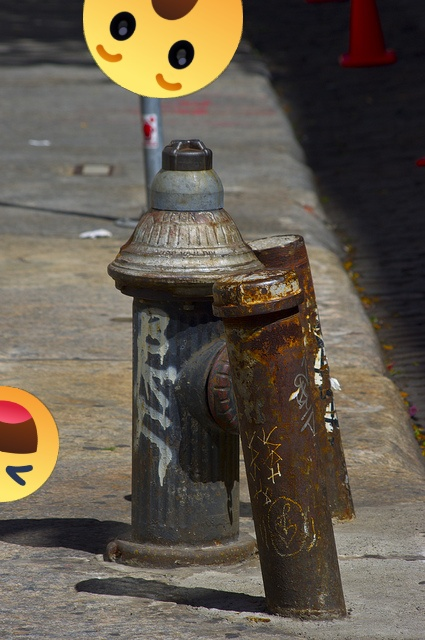haha: (0, 386, 59, 502)
wow: (83, 0, 243, 98)
